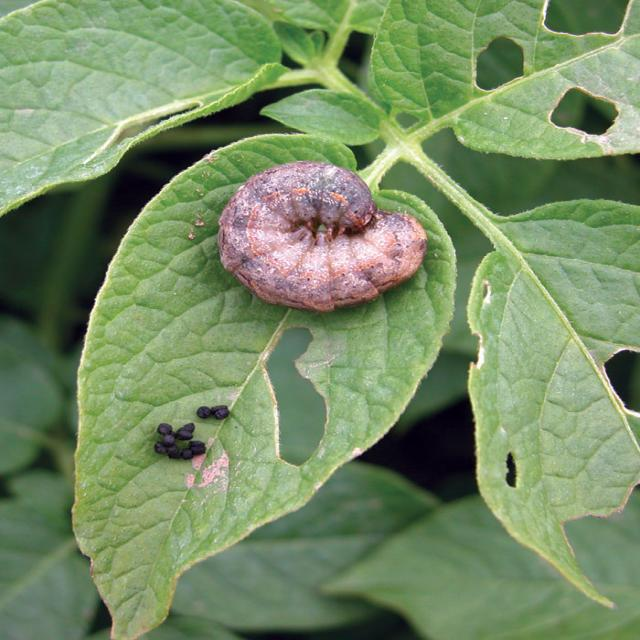cutworm: (206, 154, 424, 322)
